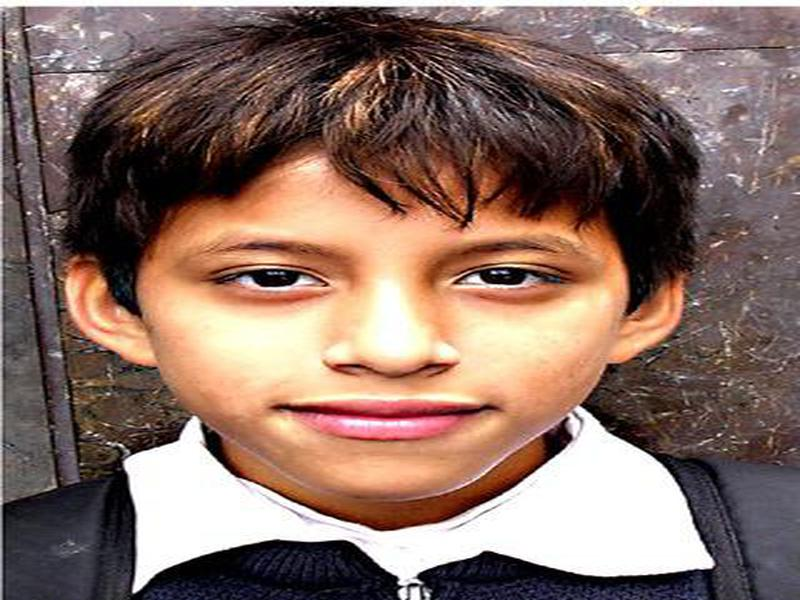without_mask: (133, 151, 636, 502)
